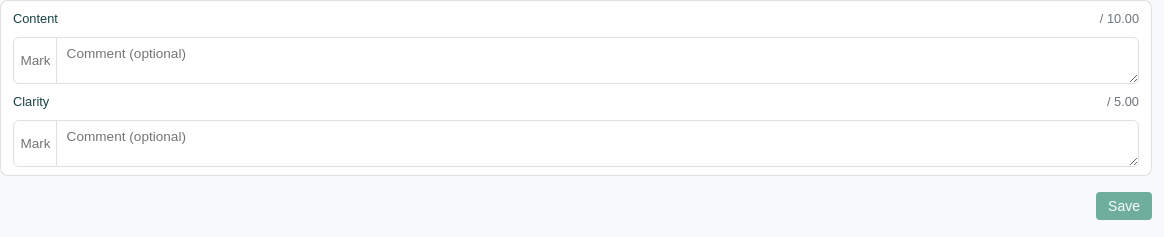
Scenario: what counts as an unsaved edit › typing a mark makes it dirty
The image size is (1164, 237).
Type "6" into the number field with class "rubric-form__mark" below "Content". click: (35, 61)
box: [13, 38, 57, 84]
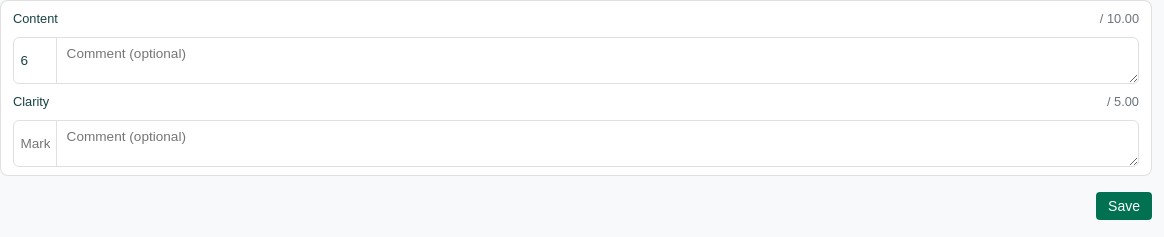
Result: the submit button is enabled at [1096, 192, 1152, 220]
